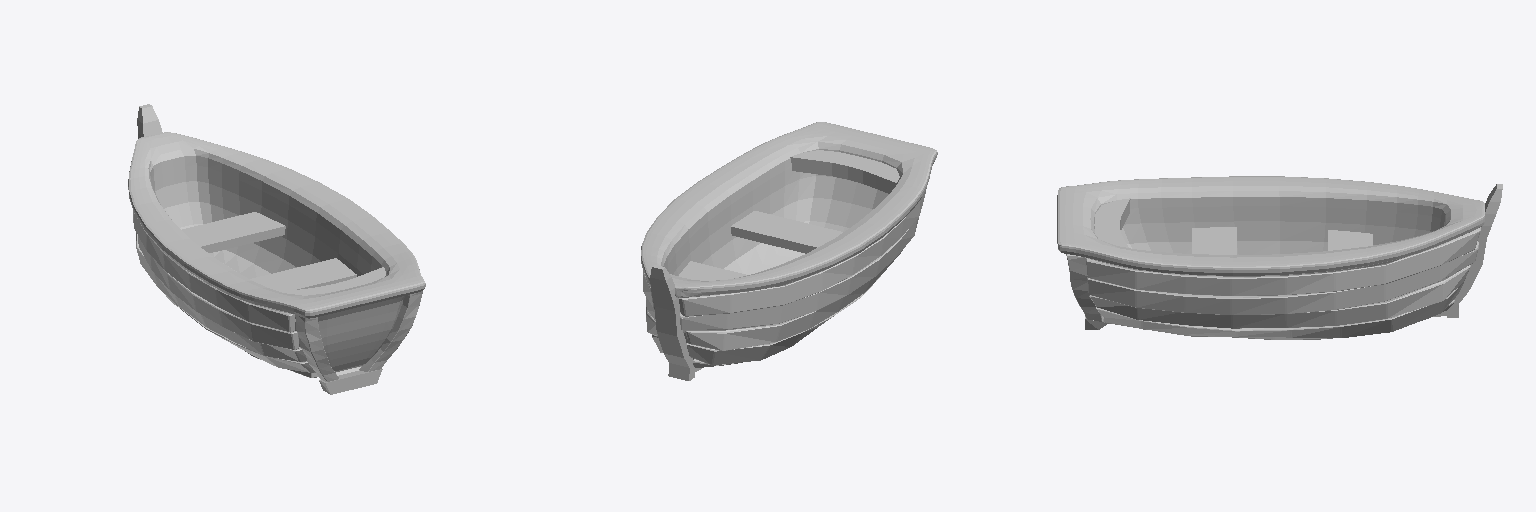
The model's file is Boat.obj.
3 views of the same model, side by side, from view 1: azimuth 30°, elevation 25°; view 2: azimuth 150°, elevation 25°; view 3: azimuth 270°, elevation 25° (orthographic).
Visible parts, largest first — view 1: Cube_Cube.002, Cube.009_Cube.011, Cube.002_Cube.004, Cube.015_Cube.017, Cube.016_Cube.018, Cube.003_Cube.005, Cube.014_Cube.016; view 2: Cube_Cube.002, Cube.009_Cube.011, Cube.003_Cube.005, Cube.016_Cube.018, Cube.014_Cube.016, Cube.015_Cube.017; view 3: Cube_Cube.002, Cube.009_Cube.011, Cube.003_Cube.005, Cube.014_Cube.016, Cube.016_Cube.018, Cube.002_Cube.004, Cube.015_Cube.017.
Boxes of the visible parts, box(x1,y1,x2,y2) form: Cube_Cube.002: box(128, 132, 425, 372); Cube.009_Cube.011: box(133, 211, 361, 377); Cube.002_Cube.004: box(295, 291, 422, 381); Cube.015_Cube.017: box(182, 212, 285, 252); Cube.016_Cube.018: box(250, 258, 356, 291); Cube.003_Cube.005: box(137, 104, 382, 394); Cube.014_Cube.016: box(282, 267, 385, 321); Cube_Cube.002: box(641, 122, 937, 359); Cube.009_Cube.011: box(643, 188, 926, 367); Cube.003_Cube.005: box(650, 265, 701, 380); Cube.016_Cube.018: box(731, 211, 842, 253); Cube.014_Cube.016: box(790, 150, 899, 193); Cube.015_Cube.017: box(679, 261, 746, 280); Cube_Cube.002: box(1057, 176, 1484, 291); Cube.009_Cube.011: box(1086, 227, 1480, 339); Cube.003_Cube.005: box(1085, 184, 1502, 329); Cube.014_Cube.016: box(1094, 198, 1130, 247); Cube.016_Cube.018: box(1192, 227, 1236, 254); Cube.002_Cube.004: box(1066, 254, 1101, 321); Cube.015_Cube.017: box(1328, 230, 1372, 250).
Bounding box in the file's own units: 4.02 × 2.82 × 8.19.